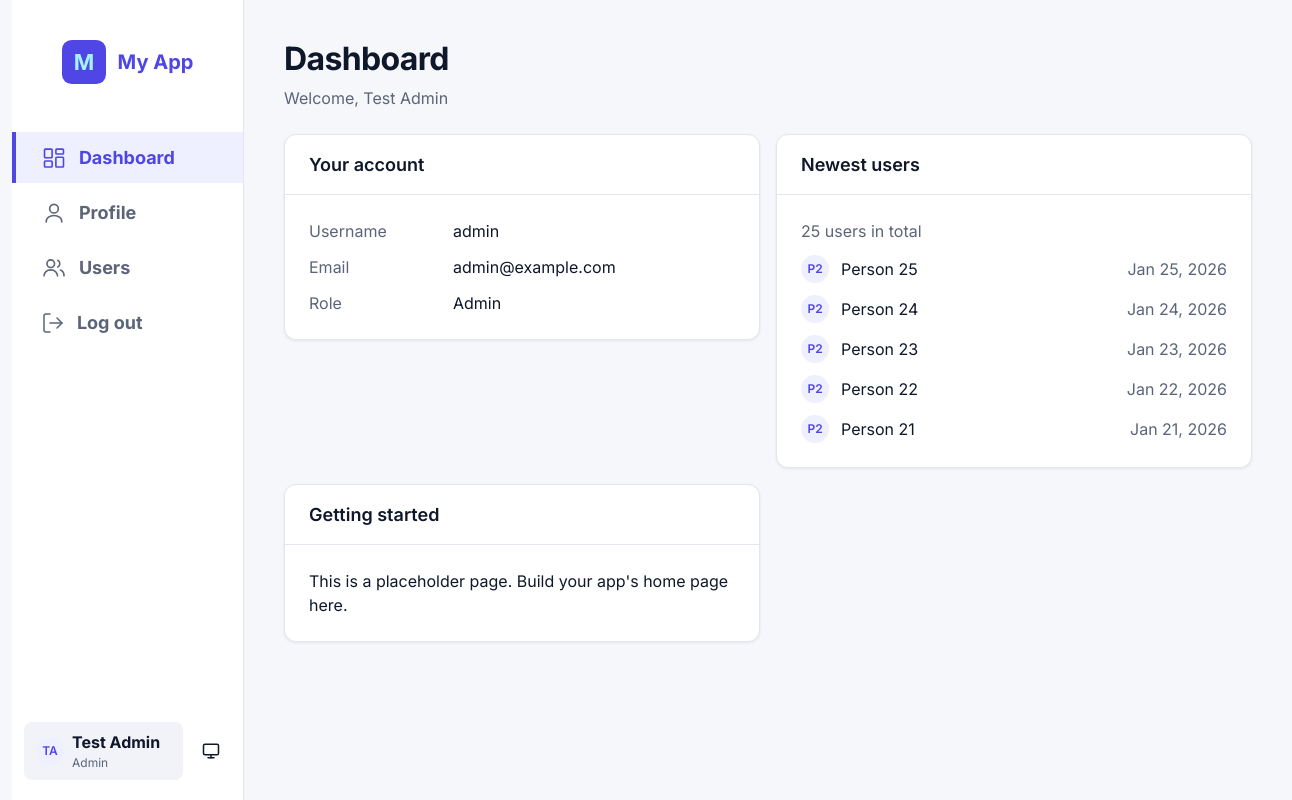
Scenario: layout › stays mounted while moving between pages (only the page changes)
The width and height of the screenshot is (1292, 800).
Expected: the heading "Dashboard" is shown, 284,40 -> 449,78
What coordinates should you click on to do the following:
click the link "Profile"
I would click on:
 (89, 212)
Its box is 41,200 -> 136,226.
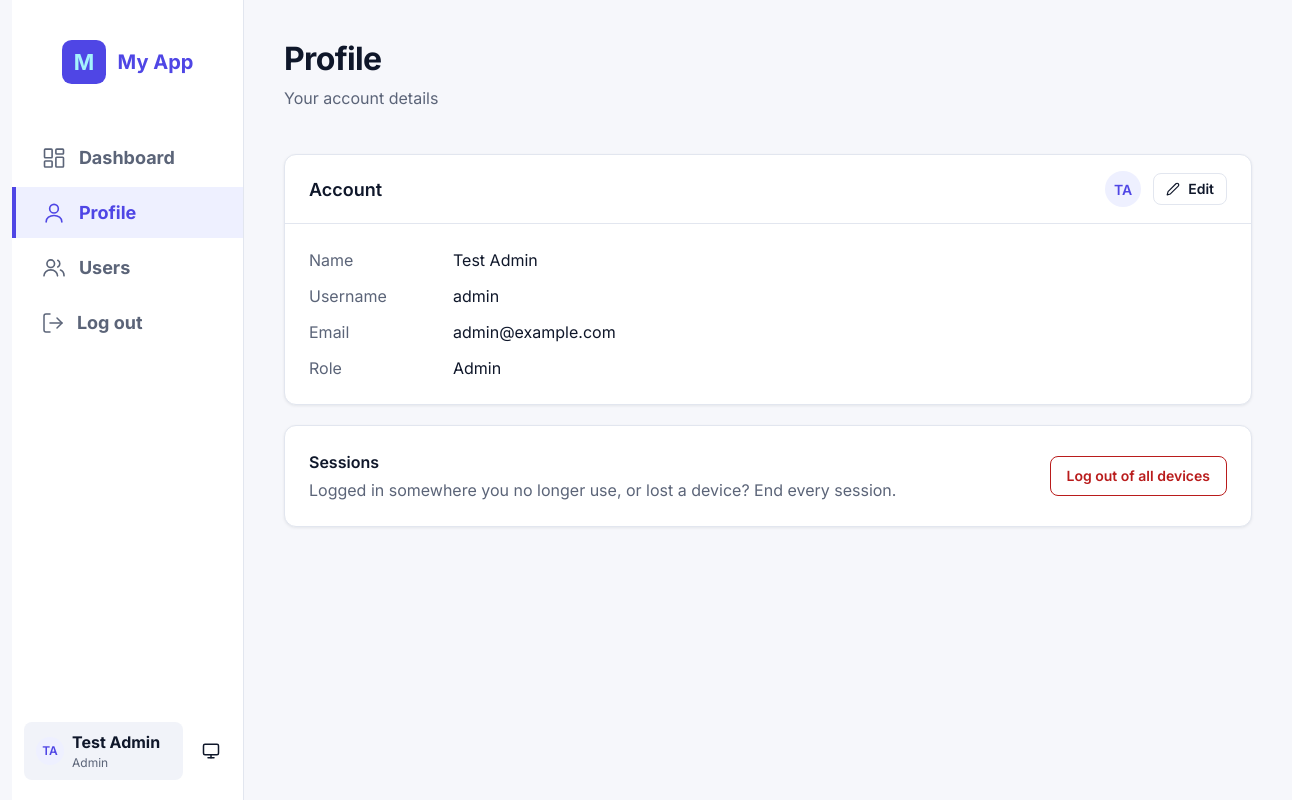
Expected: the heading "Profile" is shown, 284,39 -> 382,78
